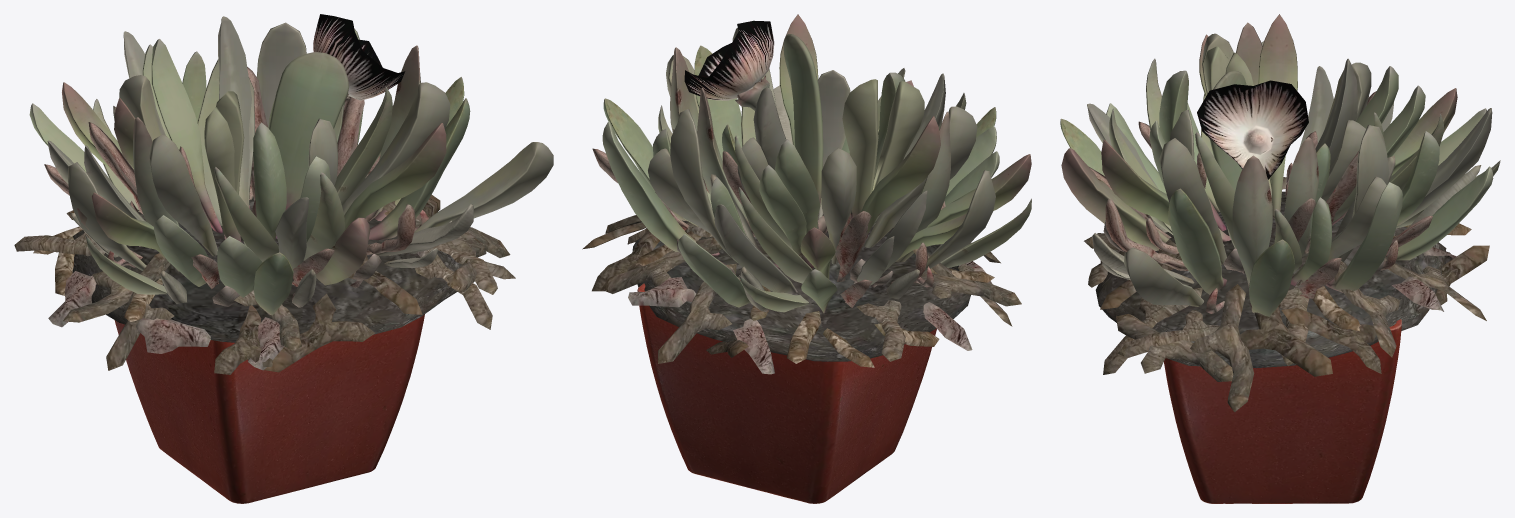
The model's file is ph-succulent-coral.glb.
The picture shows the model from 3 angles, left to right: view 1: azimuth 30°, elevation 25°; view 2: azimuth 150°, elevation 25°; view 3: azimuth 270°, elevation 25°; orthographic projection. The views are drawn at different scales.
Parts seen in each view (by area): view 1: cheiridopsis_succulent_e_LOD0, Ecoforms_Plant_Container_QP6CORAL; view 2: cheiridopsis_succulent_e_LOD0, Ecoforms_Plant_Container_QP6CORAL; view 3: cheiridopsis_succulent_e_LOD0, Ecoforms_Plant_Container_QP6CORAL.
Part boxes in pixels (bbox=[...]): cheiridopsis_succulent_e_LOD0: bbox=[14, 14, 553, 374]; Ecoforms_Plant_Container_QP6CORAL: bbox=[114, 314, 424, 503]; cheiridopsis_succulent_e_LOD0: bbox=[582, 14, 1031, 374]; Ecoforms_Plant_Container_QP6CORAL: bbox=[637, 283, 936, 503]; cheiridopsis_succulent_e_LOD0: bbox=[1060, 14, 1500, 412]; Ecoforms_Plant_Container_QP6CORAL: bbox=[1164, 319, 1401, 503].
Bounding box in the file's own units: 0.391 × 0.3663 × 0.3459.
4 materials, 3 textured.
